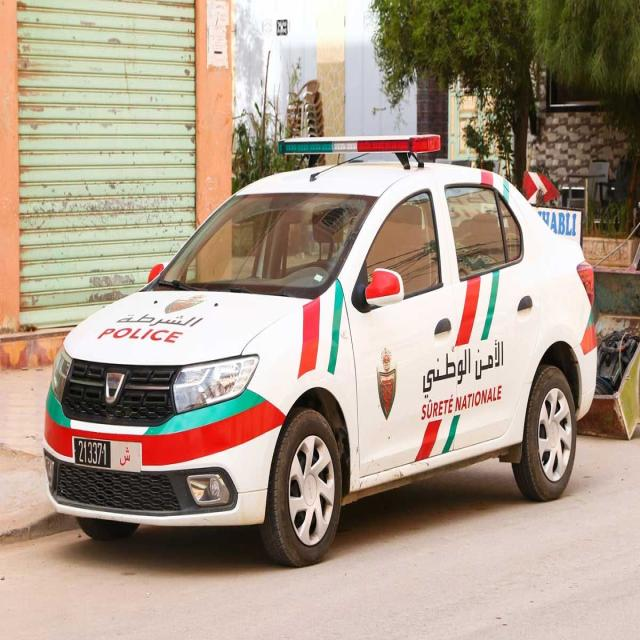police: (43, 136, 595, 568)
